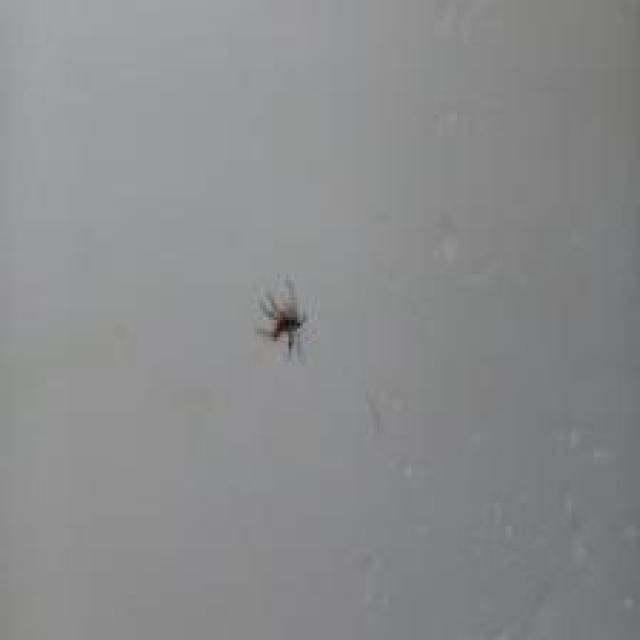Aedes albopictus: (256, 276, 307, 356)
